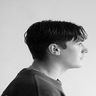ear: (45, 39, 66, 61)
